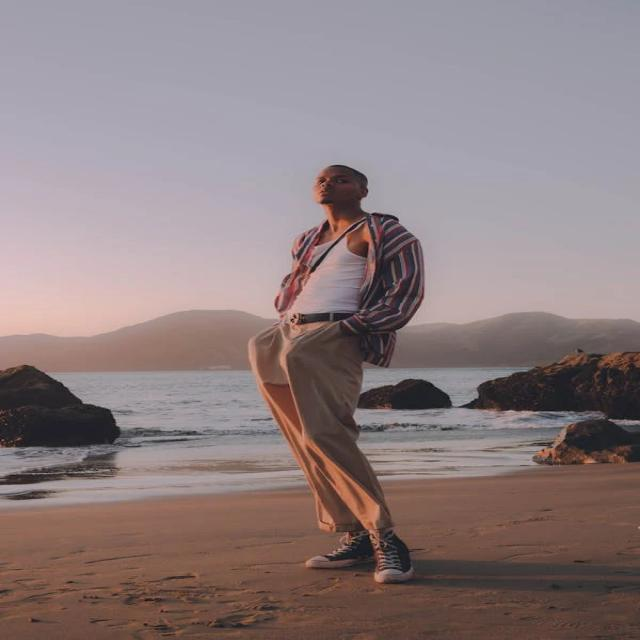Real human 2: (237, 154, 487, 608)
